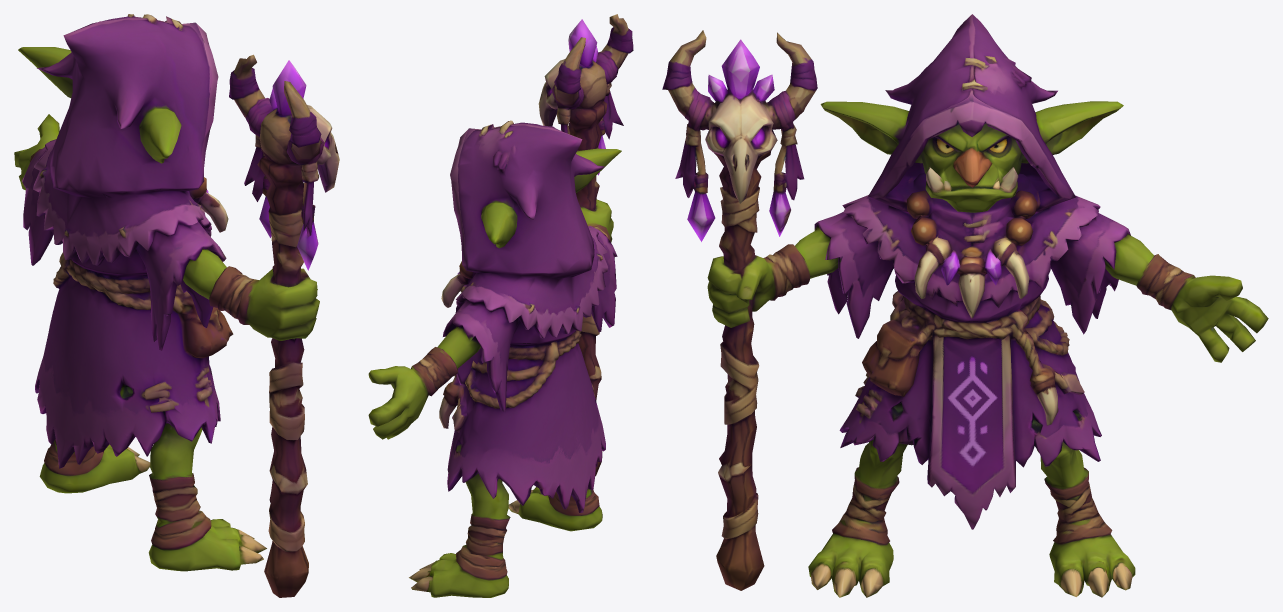
The model's file is hexer_raw.glb.
3 views of the same model, side by side, from view 1: azimuth 30°, elevation 25°; view 2: azimuth 150°, elevation 25°; view 3: azimuth 270°, elevation 25° (orthographic). The views are drawn at different scales.
Parts seen in each view (by area): view 1: tripo_node_dfd266ab-2dd2-4fed-8fc7-6fd00b1e841e; view 2: tripo_node_dfd266ab-2dd2-4fed-8fc7-6fd00b1e841e; view 3: tripo_node_dfd266ab-2dd2-4fed-8fc7-6fd00b1e841e.
Boxes of the visible parts, x1,y1,x2,y2 form: tripo_node_dfd266ab-2dd2-4fed-8fc7-6fd00b1e841e: [14, 14, 339, 597]; tripo_node_dfd266ab-2dd2-4fed-8fc7-6fd00b1e841e: [368, 14, 633, 597]; tripo_node_dfd266ab-2dd2-4fed-8fc7-6fd00b1e841e: [662, 14, 1268, 597].
Size of the model in its own units: 0.3402 by 0.9974 by 1.
Materials: 1 (1 with a texture image).
